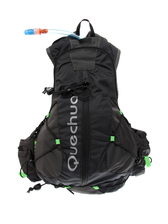bag: (14, 21, 153, 198)
